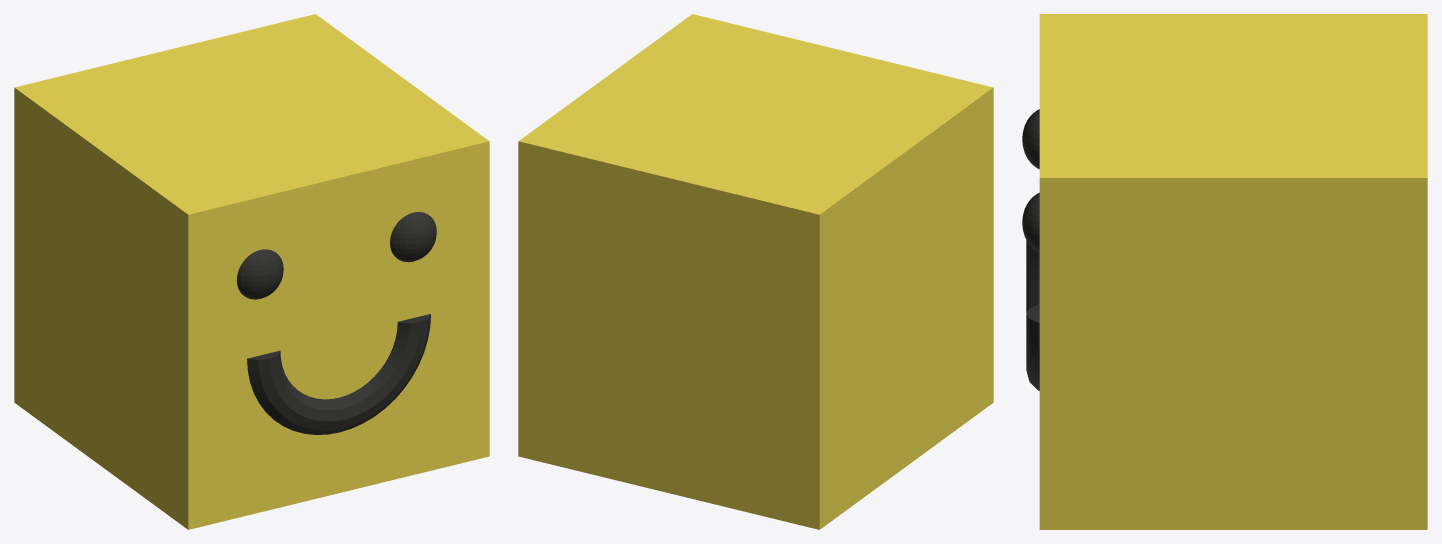
File: cuby.glb
3 renders of one model, left to right at view 1: azimuth 30°, elevation 25°; view 2: azimuth 150°, elevation 25°; view 3: azimuth 270°, elevation 25°, orthographic. The views are drawn at different scales.
Parts seen in each view (by area): view 1: cuby; view 2: cuby; view 3: cuby.
Boxes of the visible parts, x1,y1,x2,y2 form: cuby: (14,14,489,529); cuby: (518,14,993,529); cuby: (1022,14,1427,529).
Bounding box in the file's own units: 0.4798 × 0.4798 × 0.5011.
